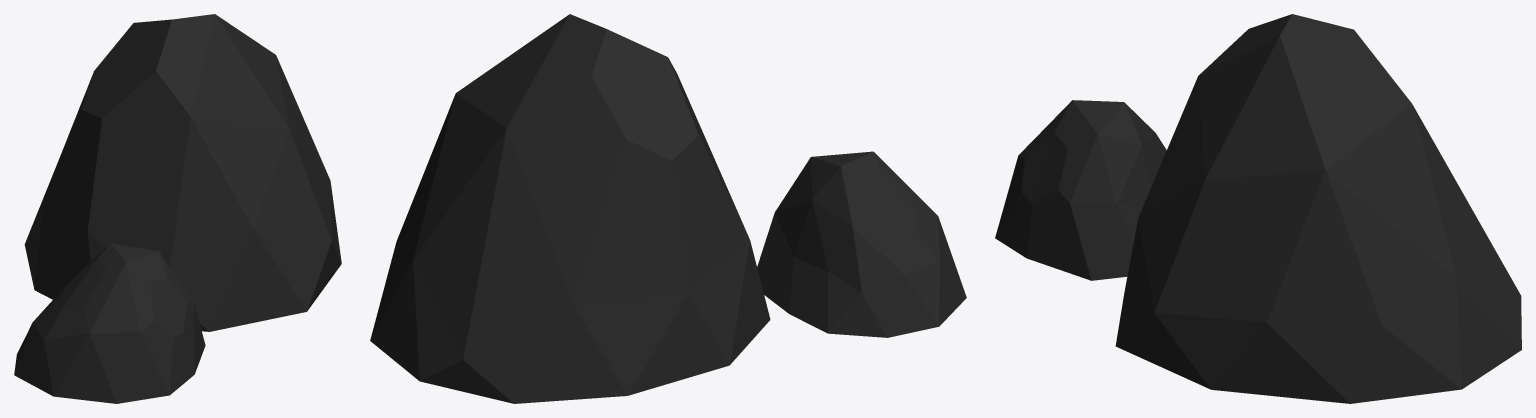
The model's file is MountainStone(2).fbx.
The picture shows the model from 3 angles, left to right: view 1: azimuth 30°, elevation 25°; view 2: azimuth 150°, elevation 25°; view 3: azimuth 270°, elevation 25°; orthographic projection. The views are drawn at different scales.
Parts seen in each view (by area): view 1: MountainStone(2); view 2: MountainStone(2); view 3: MountainStone(2).
Part boxes in pixels (x1,y1,x2,y2): MountainStone(2): [14, 14, 341, 403]; MountainStone(2): [370, 14, 966, 403]; MountainStone(2): [995, 14, 1521, 403].
Bounding box in the file's own units: 2.17 × 1.37 × 2.18.
